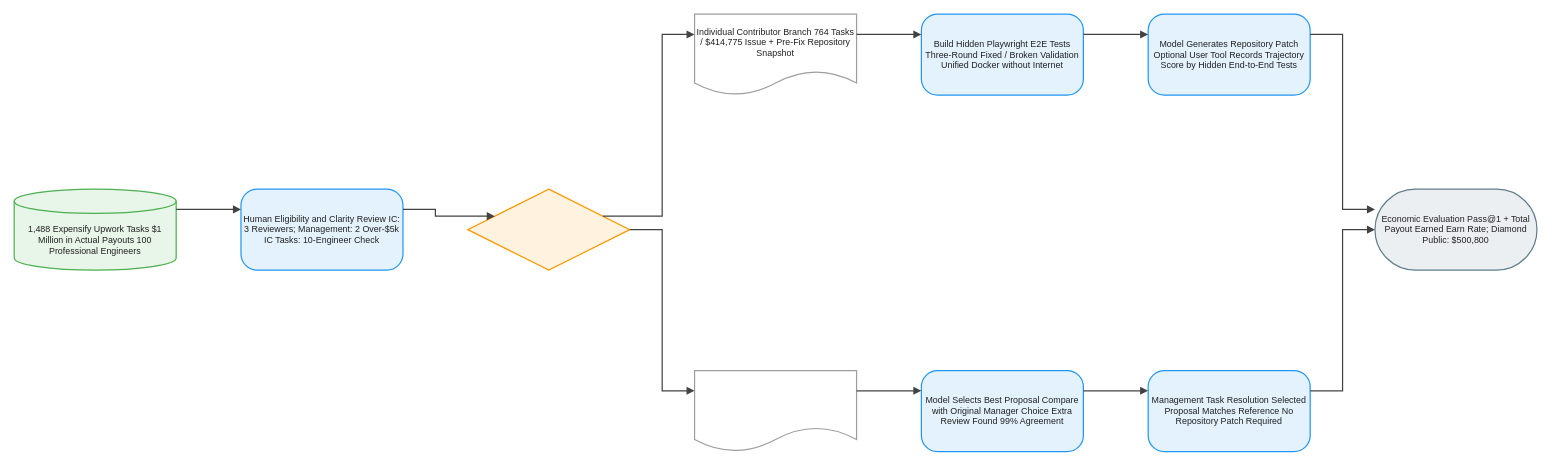
This 1552x467 diagram has some shape labels left out. The centre of each missing label's shape, as x and y in pixels:
"SWE Management Branch 724 Tasks / $585,225 Issue + At Least Two Proposals" goes at pixel 775 411.
"Task Type? Patch or Proposal Choice" goes at pixel 548 229.
